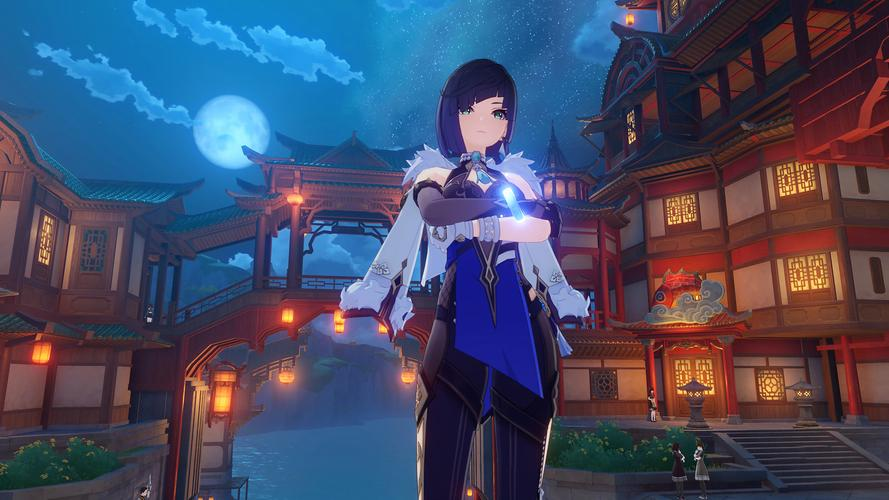夜兰: (412, 60, 563, 500)
